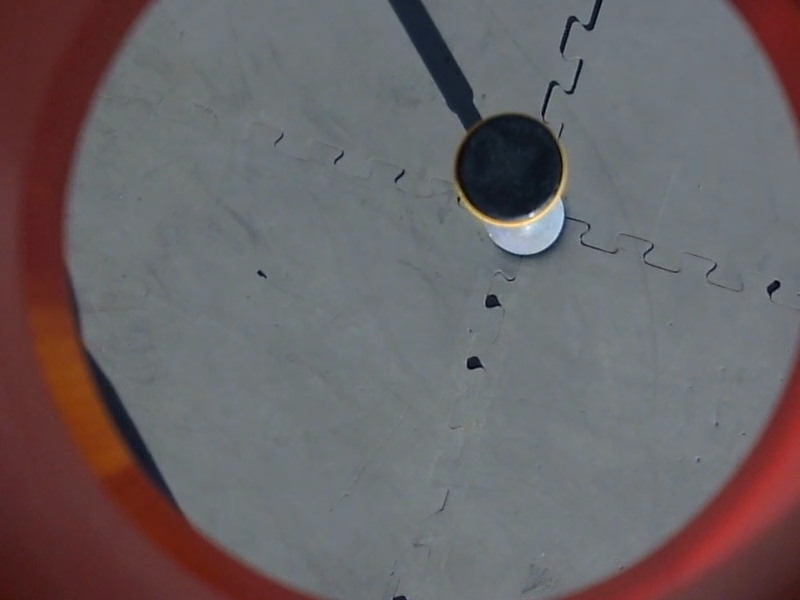tip: (450, 111, 569, 225)
